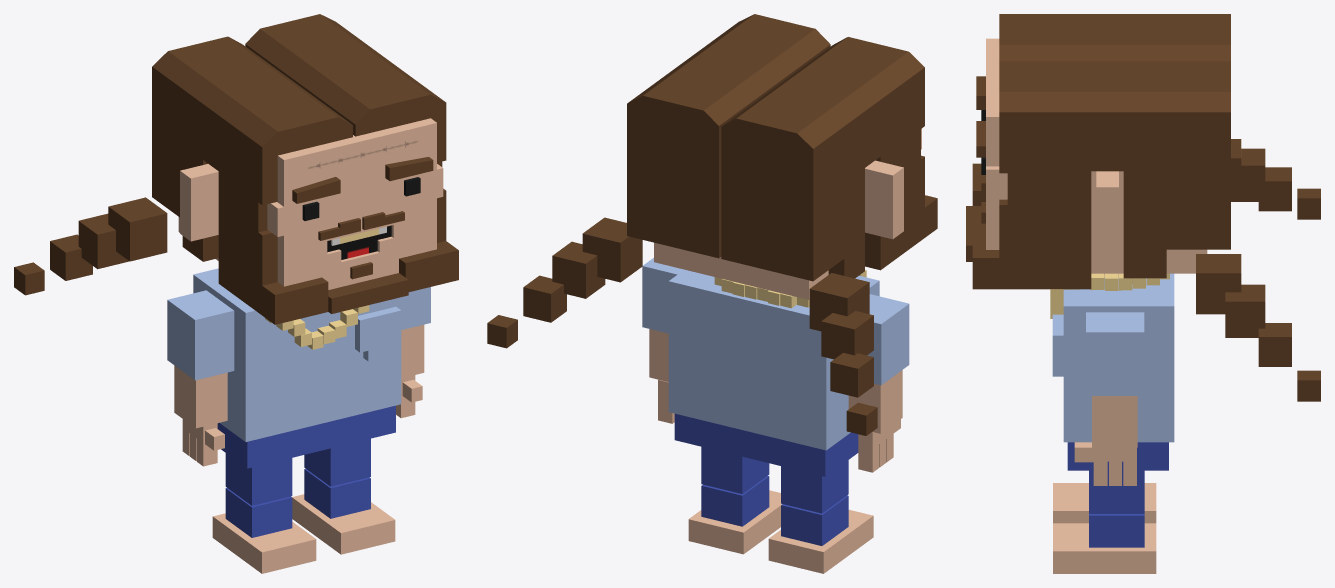
3 renders of one model, left to right at view 1: azimuth 30°, elevation 25°; view 2: azimuth 150°, elevation 25°; view 3: azimuth 270°, elevation 25°, orthographic. The views are drawn at different scales.
Visible parts, largest first — view 1: Head_low; view 2: Head_low; view 3: Head_low.
Part boxes in pixels (x1,y1,x2,y2): Head_low: (14,14,458,573); Head_low: (487,14,937,573); Head_low: (966,14,1320,573).
Size of the model in its own units: 1.25 by 1.48 by 0.9786.
1 material, 1 textured.
